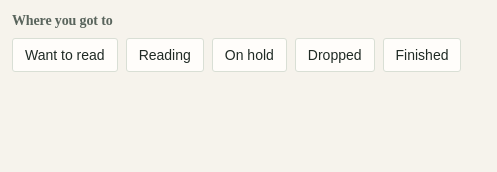
Scenario: ReadingStatusControl › does not offer a second choice while a write is in flight
The image size is (497, 172).
Step 1. Click the button "Reading" → (165, 54), box [126,38,204,72]
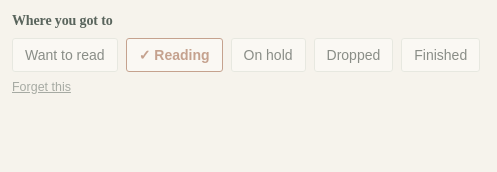
Now the button "Want to read" is disabled, box [12,38,118,72]
Now the button "Reading" is disabled, box [126,38,222,72]
Now the button "On hold" is disabled, box [230,38,306,72]
